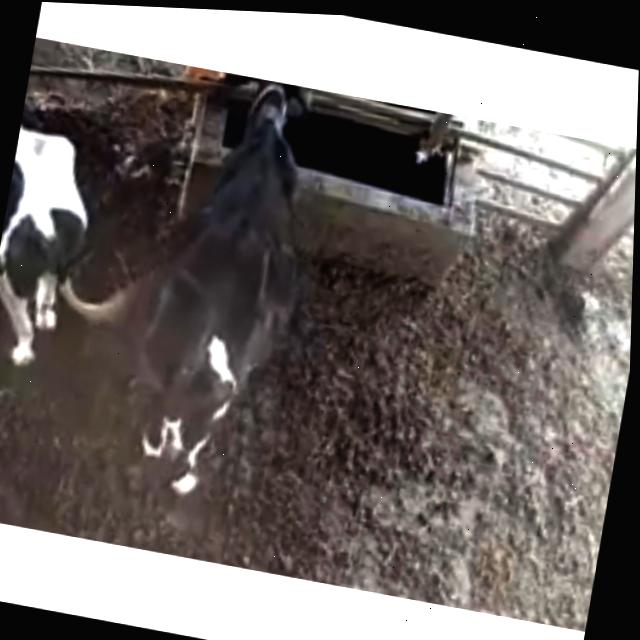drink: (205, 71, 353, 192)
